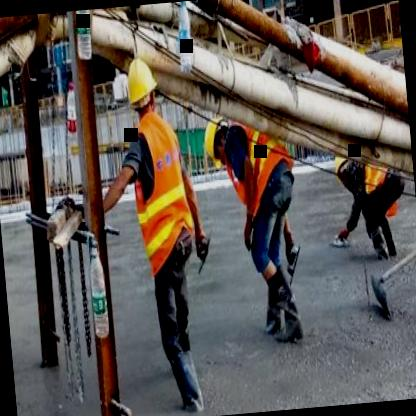helmet: (124, 54, 162, 126), (198, 115, 233, 170), (328, 146, 353, 187)
